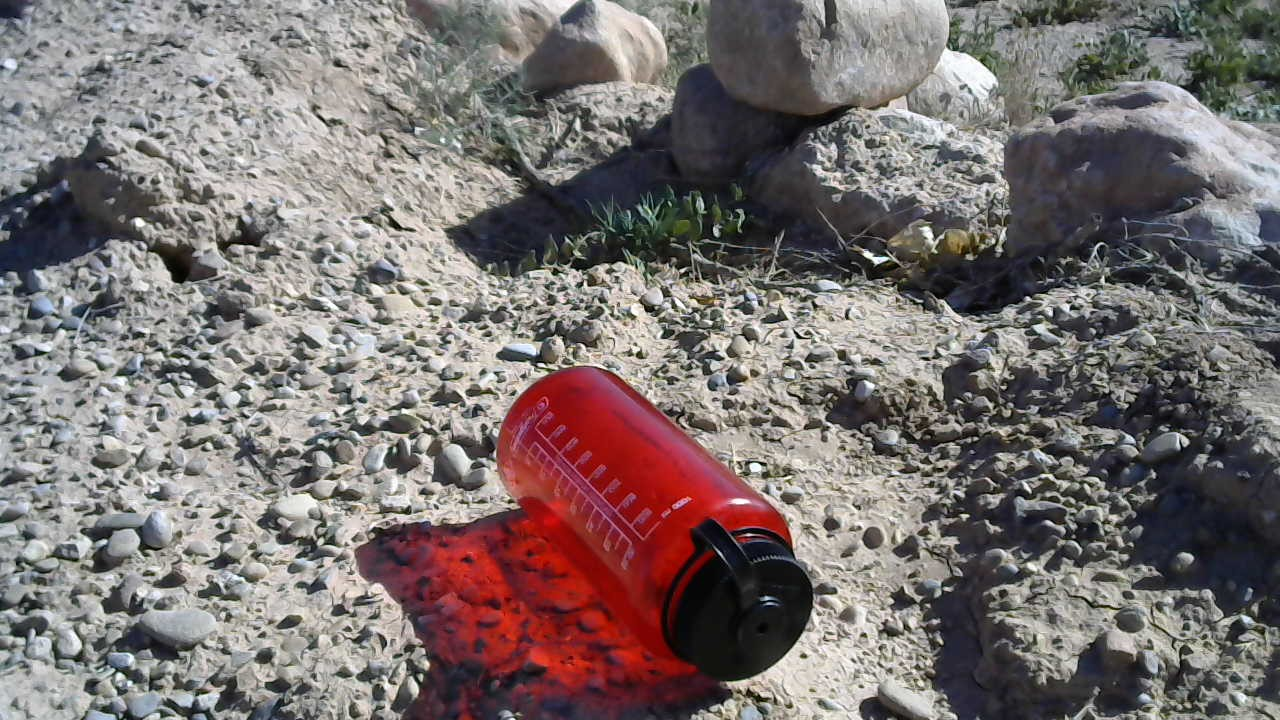bottle: (490, 362, 816, 686)
